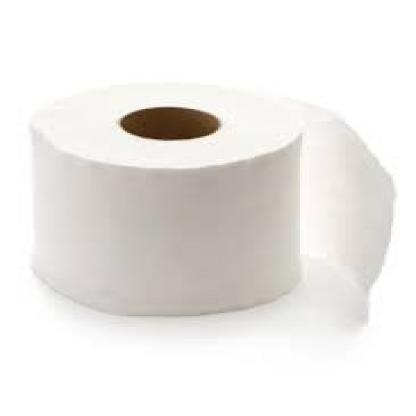tissue: (34, 86, 387, 316)
